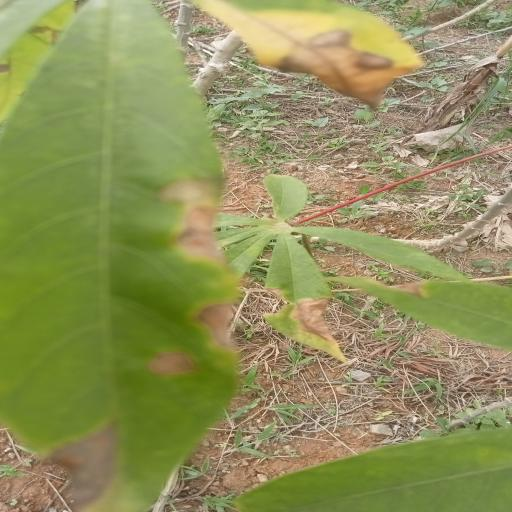Cassava_Brown_Leaf_Spot: (0, 1, 252, 512)
